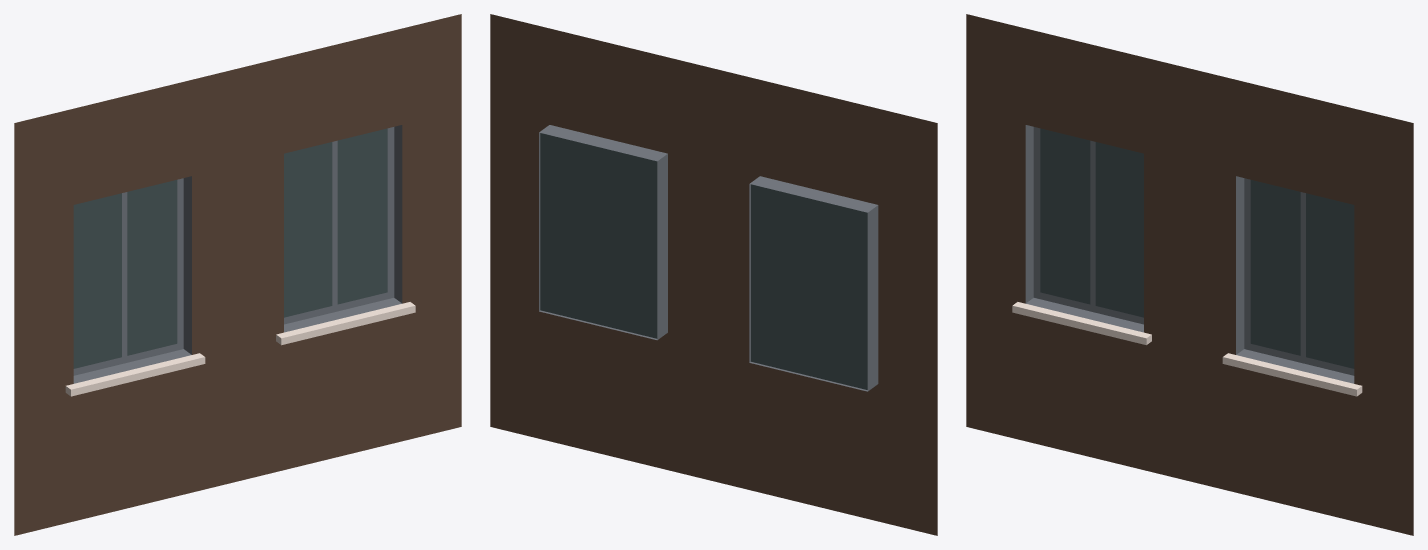
File: mid-w3.fbx
The picture shows the model from 3 angles, left to right: view 1: azimuth 30°, elevation 25°; view 2: azimuth 150°, elevation 25°; view 3: azimuth 330°, elevation 25°; orthographic projection.
Parts seen in each view (by area): view 1: a2001/800/mid-w3; view 2: a2001/800/mid-w3; view 3: a2001/800/mid-w3.
Part boxes in pixels (bbox=[...]): a2001/800/mid-w3: bbox=[14, 14, 461, 535]; a2001/800/mid-w3: bbox=[490, 14, 937, 535]; a2001/800/mid-w3: bbox=[966, 14, 1413, 535].
Size of the model in its own units: 3.4 by 3 by 0.21.
